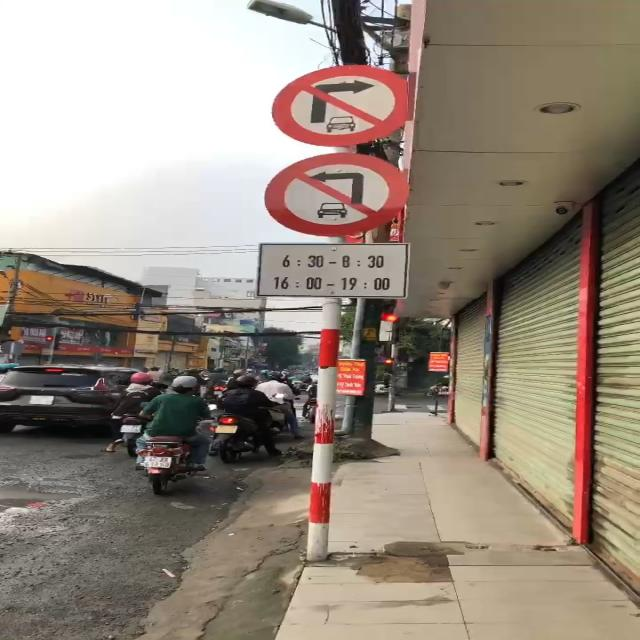Bien bao cam xe o to re phai: (262, 57, 420, 148)
Bien bao cam xe o to re trai: (252, 152, 426, 243)
